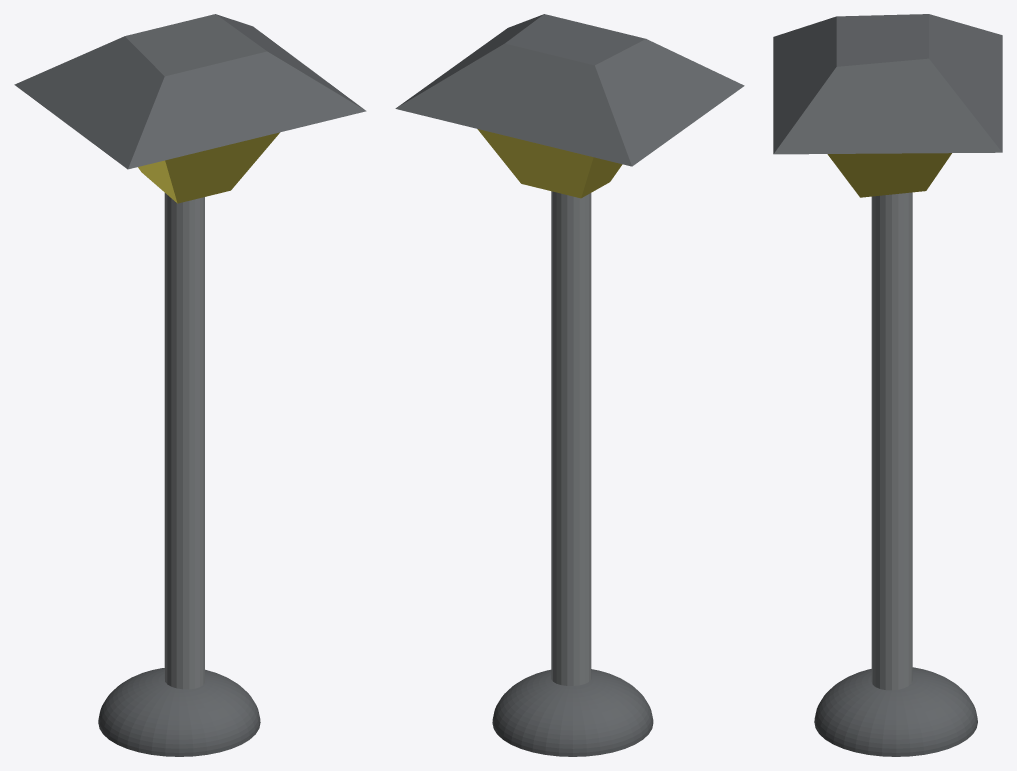
Rendered from Lamp post.glb.
3 views of the same model, side by side, from view 1: azimuth 30°, elevation 25°; view 2: azimuth 150°, elevation 25°; view 3: azimuth 270°, elevation 25° (orthographic).
Parts seen in each view (by area): view 1: Mesh_Mesh_head_geo.001_lambert2SG.001; view 2: Mesh_Mesh_head_geo.001_lambert2SG.001; view 3: Mesh_Mesh_head_geo.001_lambert2SG.001.
Part boxes in pixels (left/top/right/bottom): Mesh_Mesh_head_geo.001_lambert2SG.001: left=14, top=14, right=366, bottom=756; Mesh_Mesh_head_geo.001_lambert2SG.001: left=395, top=14, right=744, bottom=756; Mesh_Mesh_head_geo.001_lambert2SG.001: left=773, top=14, right=1002, bottom=756.
Size of the model in its own units: 34 by 93 by 28.
